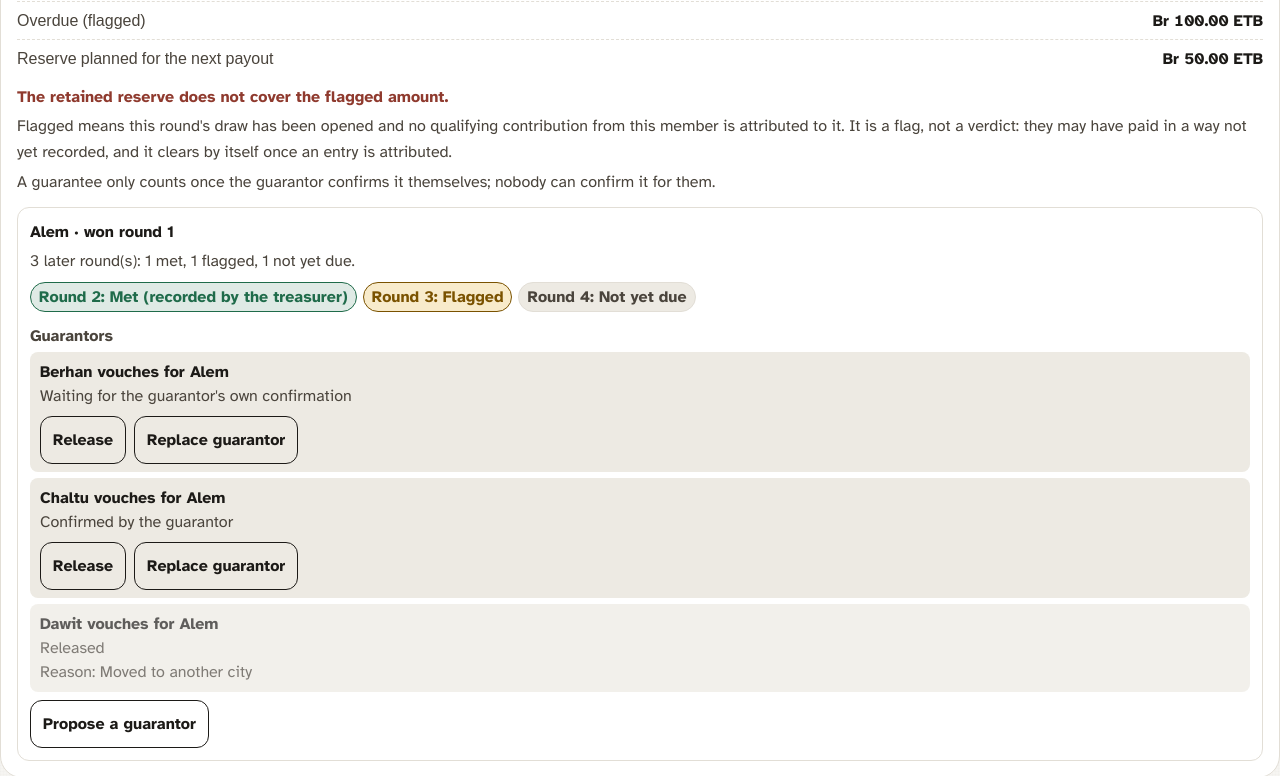
Test case: CollateralPanel: the owner's and treasurer's controls › closes the form and reports success only when the command succeeded
(page scrolled)
Click the button with test id "guarantee-propose" at (120, 724), box x1=30 y1=700 x2=209 y2=748
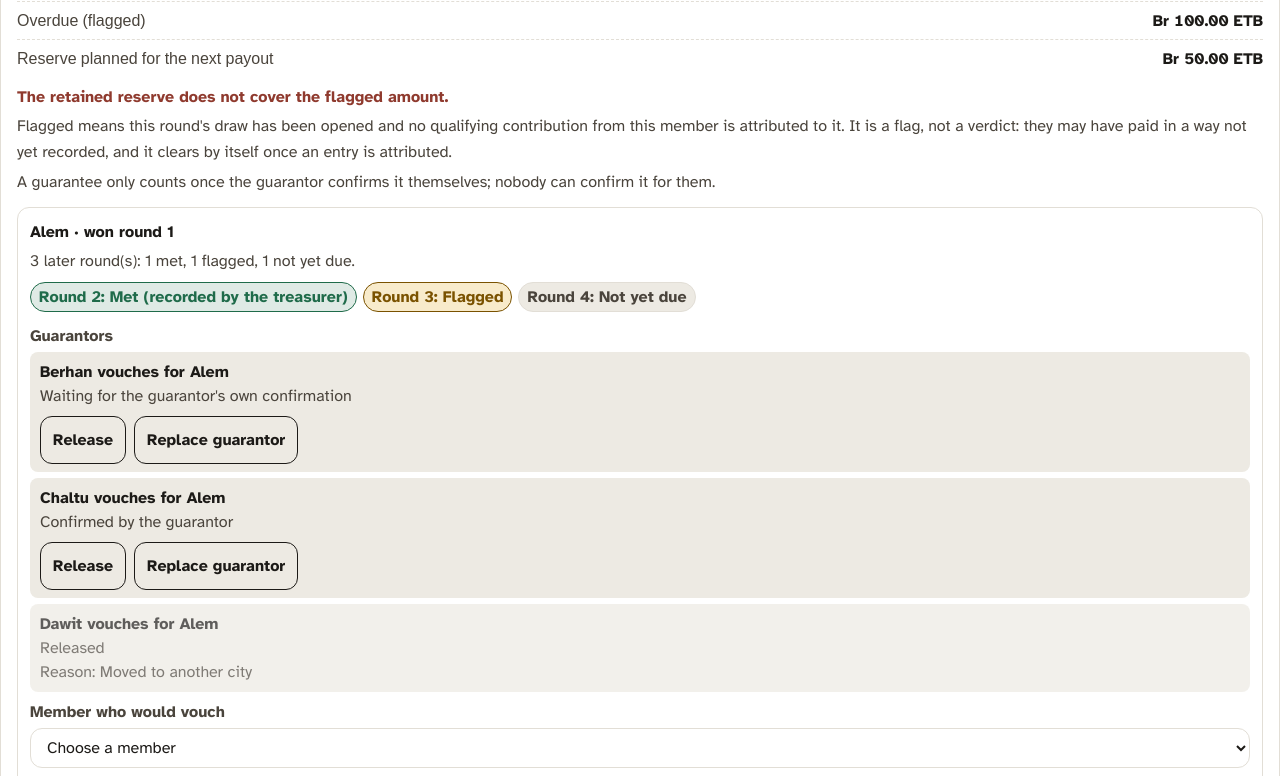
Select "Dawit" in the dropdown with test id "guarantee-propose-member" at (640, 748), box x1=30 y1=728 x2=1250 y2=768
(page scrolled)
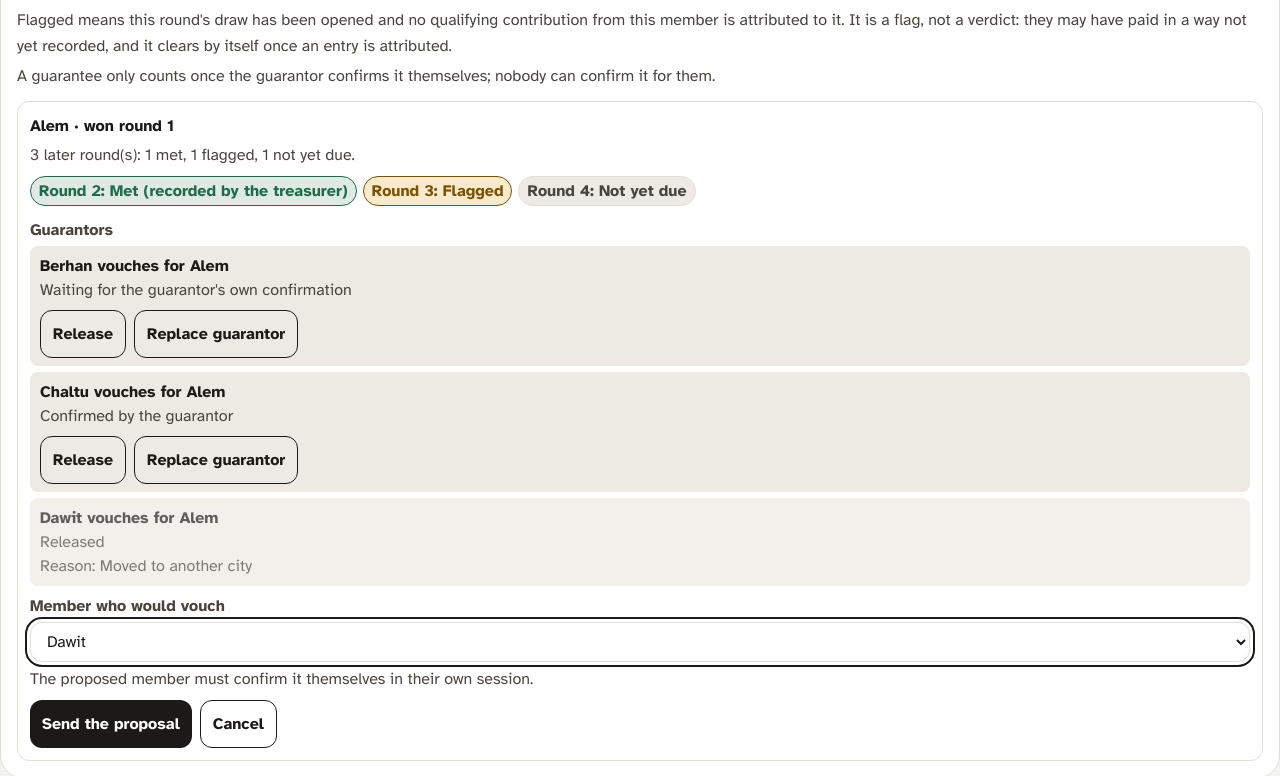
Click the button with test id "guarantee-propose-confirm" at (111, 724), box x1=30 y1=700 x2=192 y2=748
(page scrolled)
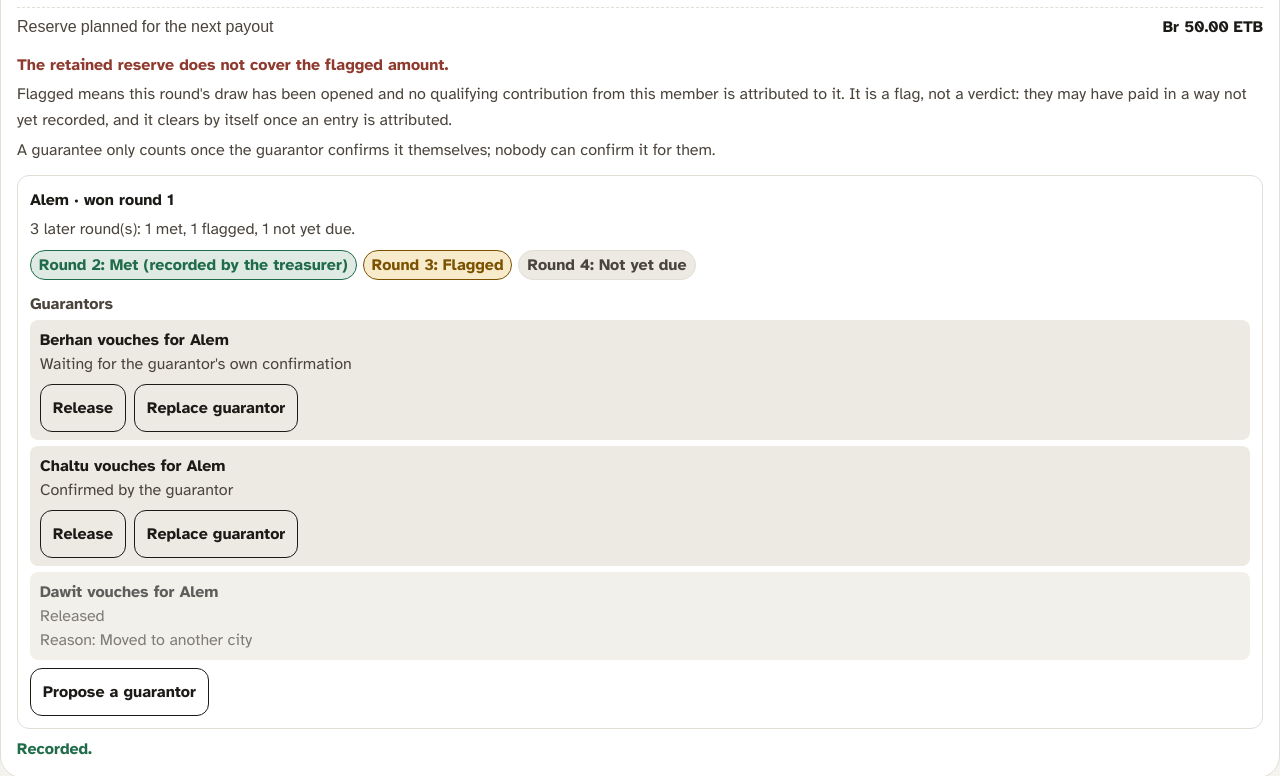
Now the element with test id "guarantee-propose-form" is gone
Now the message with test id "collateral-message" reads "Recorded.", box x1=17 y1=739 x2=92 y2=759
